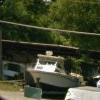Boat: (22, 50, 84, 92)
